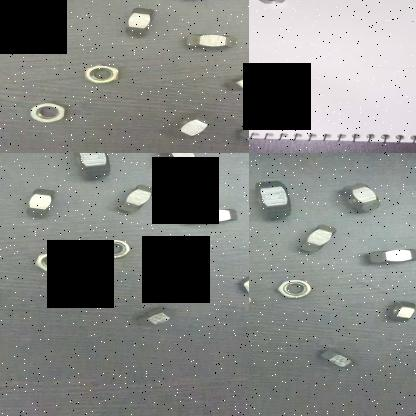NUTS: (249, 172, 314, 222), (22, 99, 80, 131), (294, 224, 348, 258), (114, 180, 160, 216), (339, 180, 385, 216), (181, 30, 237, 58), (16, 184, 58, 220), (124, 5, 162, 44), (163, 114, 215, 142), (363, 242, 416, 269), (79, 61, 125, 90), (64, 153, 110, 182), (181, 207, 245, 227), (29, 248, 72, 274), (90, 238, 139, 260), (133, 304, 176, 329), (214, 68, 249, 97), (272, 279, 314, 303), (158, 153, 200, 176), (384, 298, 416, 325), (312, 349, 354, 369), (232, 123, 249, 152), (235, 272, 249, 298), (249, 0, 292, 6)
